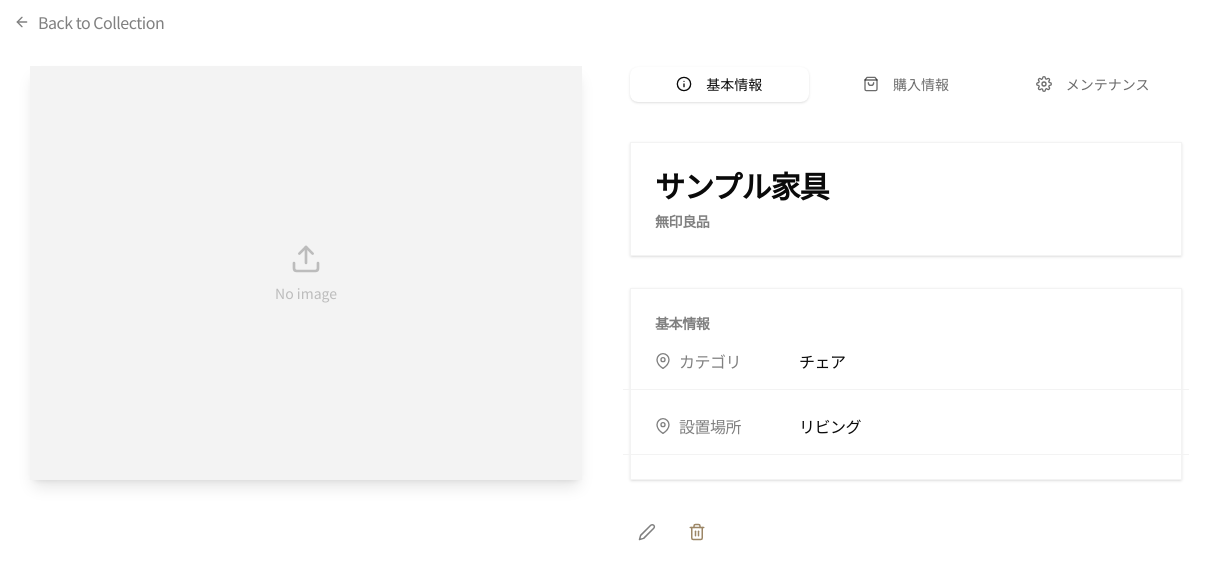
FurnitureDetailClient › 編集機能 › 編集ボタンで編集モードに切り替わる
Click the button named "編集".
click(647, 532)  # box [630,512,664,552]
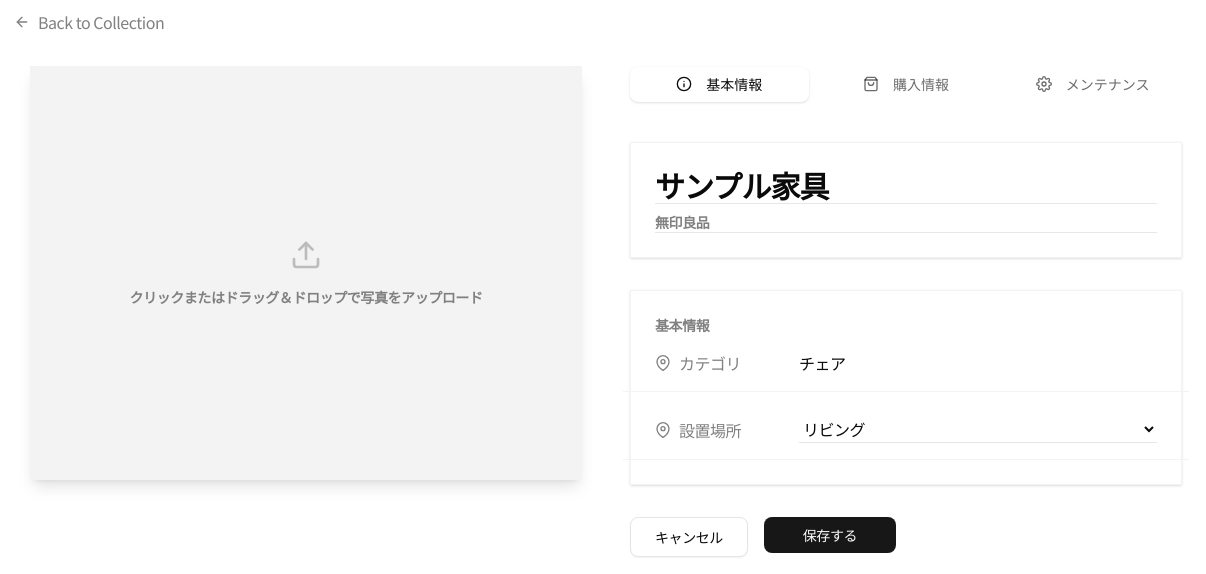
Check: the 1st field showing "サンプル家具" is shown, box [655,167,1157,204]
Check: the button "キャンセル" is shown, box [630,517,748,557]
Check: the button "保存する" is shown, box [764,517,896,553]
